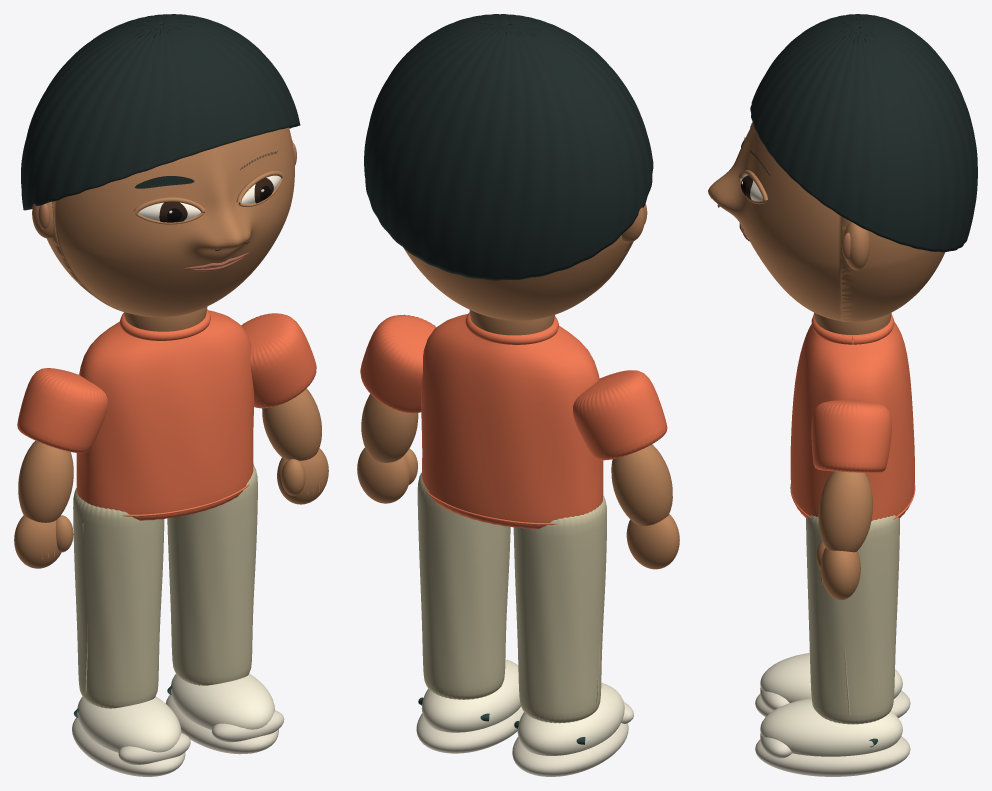
File: male-short.glb
3 views of the same model, side by side, from view 1: azimuth 30°, elevation 25°; view 2: azimuth 150°, elevation 25°; view 3: azimuth 270°, elevation 25° (orthographic). The views are drawn at different scales.
Parts seen in each view (by area): view 1: Hair | shaped continuous hairstyle, Cotton tee | tailored body, Face | continuous sculpt with nose cheeks and jaw, Trousers | tapered leg, Trousers | tapered leg.001, Tee | tailored short sleeve, Tee | tailored short sleeve.001, Sneaker | canvas upper, Sneaker | canvas upper.001, Arm | forearm, Arm | forearm.001, Hand | palm (+9 smaller); view 2: Hair | shaped continuous hairstyle, Cotton tee | tailored body, Trousers | tapered leg, Trousers | tapered leg.001, Face | continuous sculpt with nose cheeks and jaw, Tee | tailored short sleeve, Tee | tailored short sleeve.001, Arm | forearm, Sneaker | canvas upper, Sneaker | canvas upper.001, Arm | forearm.001, Sneaker | rubber sole (+5 smaller); view 3: Hair | shaped continuous hairstyle, Face | continuous sculpt with nose cheeks and jaw, Trousers | tapered leg.001, Cotton tee | tailored body, Tee | tailored short sleeve.001, Sneaker | canvas upper.001, Arm | forearm.001, Sneaker | rubber sole.001, Sneaker | canvas upper, Hand | palm.001, Neck, Tee | ribbed crew neck (+3 smaller).
Boxes of the visible parts, box(x1,y1,x2,y2) form: Hair | shaped continuous hairstyle: box(21, 14, 300, 210); Cotton tee | tailored body: box(76, 310, 254, 520); Face | continuous sculpt with nose cheeks and jaw: box(46, 127, 294, 317); Trousers | tapered leg: box(73, 488, 164, 708); Trousers | tapered leg.001: box(167, 466, 257, 685); Tee | tailored short sleeve: box(17, 368, 107, 453); Tee | tailored short sleeve.001: box(241, 313, 316, 408); Sneaker | canvas upper: box(77, 696, 181, 752); Sneaker | canvas upper.001: box(171, 673, 274, 729); Arm | forearm: box(18, 440, 73, 522); Arm | forearm.001: box(262, 388, 321, 460); Hand | palm: box(14, 515, 61, 568); Hair | shaped continuous hairstyle: box(364, 14, 653, 280); Cotton tee | tailored body: box(421, 314, 603, 529); Trousers | tapered leg: box(513, 496, 606, 723); Trousers | tapered leg.001: box(417, 472, 510, 699); Face | continuous sculpt with nose cheeks and jaw: box(404, 235, 633, 320); Tee | tailored short sleeve: box(573, 370, 667, 460); Tee | tailored short sleeve.001: box(360, 314, 436, 413); Arm | forearm: box(611, 444, 672, 525); Sneaker | canvas upper: box(517, 683, 624, 755); Sneaker | canvas upper.001: box(421, 659, 520, 732); Arm | forearm.001: box(361, 393, 418, 462); Sneaker | rubber sole: box(512, 723, 628, 776); Hair | shaped continuous hairstyle: box(750, 14, 977, 252); Face | continuous sculpt with nose cheeks and jaw: box(708, 123, 944, 321); Trousers | tapered leg.001: box(806, 515, 899, 724); Cotton tee | tailored body: box(790, 322, 914, 521); Tee | tailored short sleeve.001: box(811, 399, 891, 472); Sneaker | canvas upper.001: box(760, 698, 902, 756); Arm | forearm.001: box(818, 471, 872, 552); Sneaker | rubber sole.001: box(755, 736, 910, 776); Sneaker | canvas upper: box(760, 653, 902, 702); Hand | palm.001: box(820, 548, 860, 600); Neck: box(814, 312, 891, 339); Tee | ribbed crew neck: box(811, 314, 894, 344).
Bounding box in the file's own units: 1.13 × 2.49 × 0.8473.
